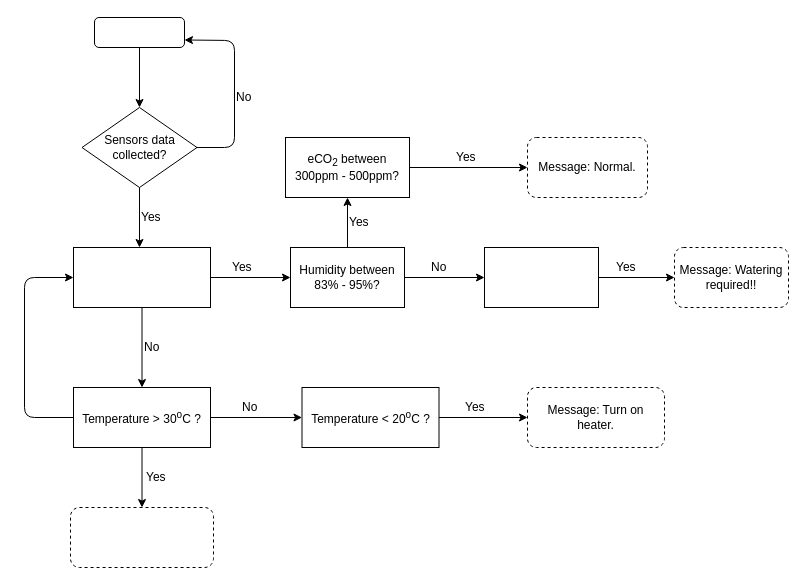
Image size: 806x585. Some labels were removed from this diagram. Here are the shapes that lost their labels. From the top down, the box of each, then its label:
(94, 16, 184, 48): Start
(72, 246, 210, 308): Temperature between 25 o C - 30 o C?
(484, 246, 598, 308): Humidity < 80%?
(70, 506, 214, 568): Message: Turn on fans or open windows.
